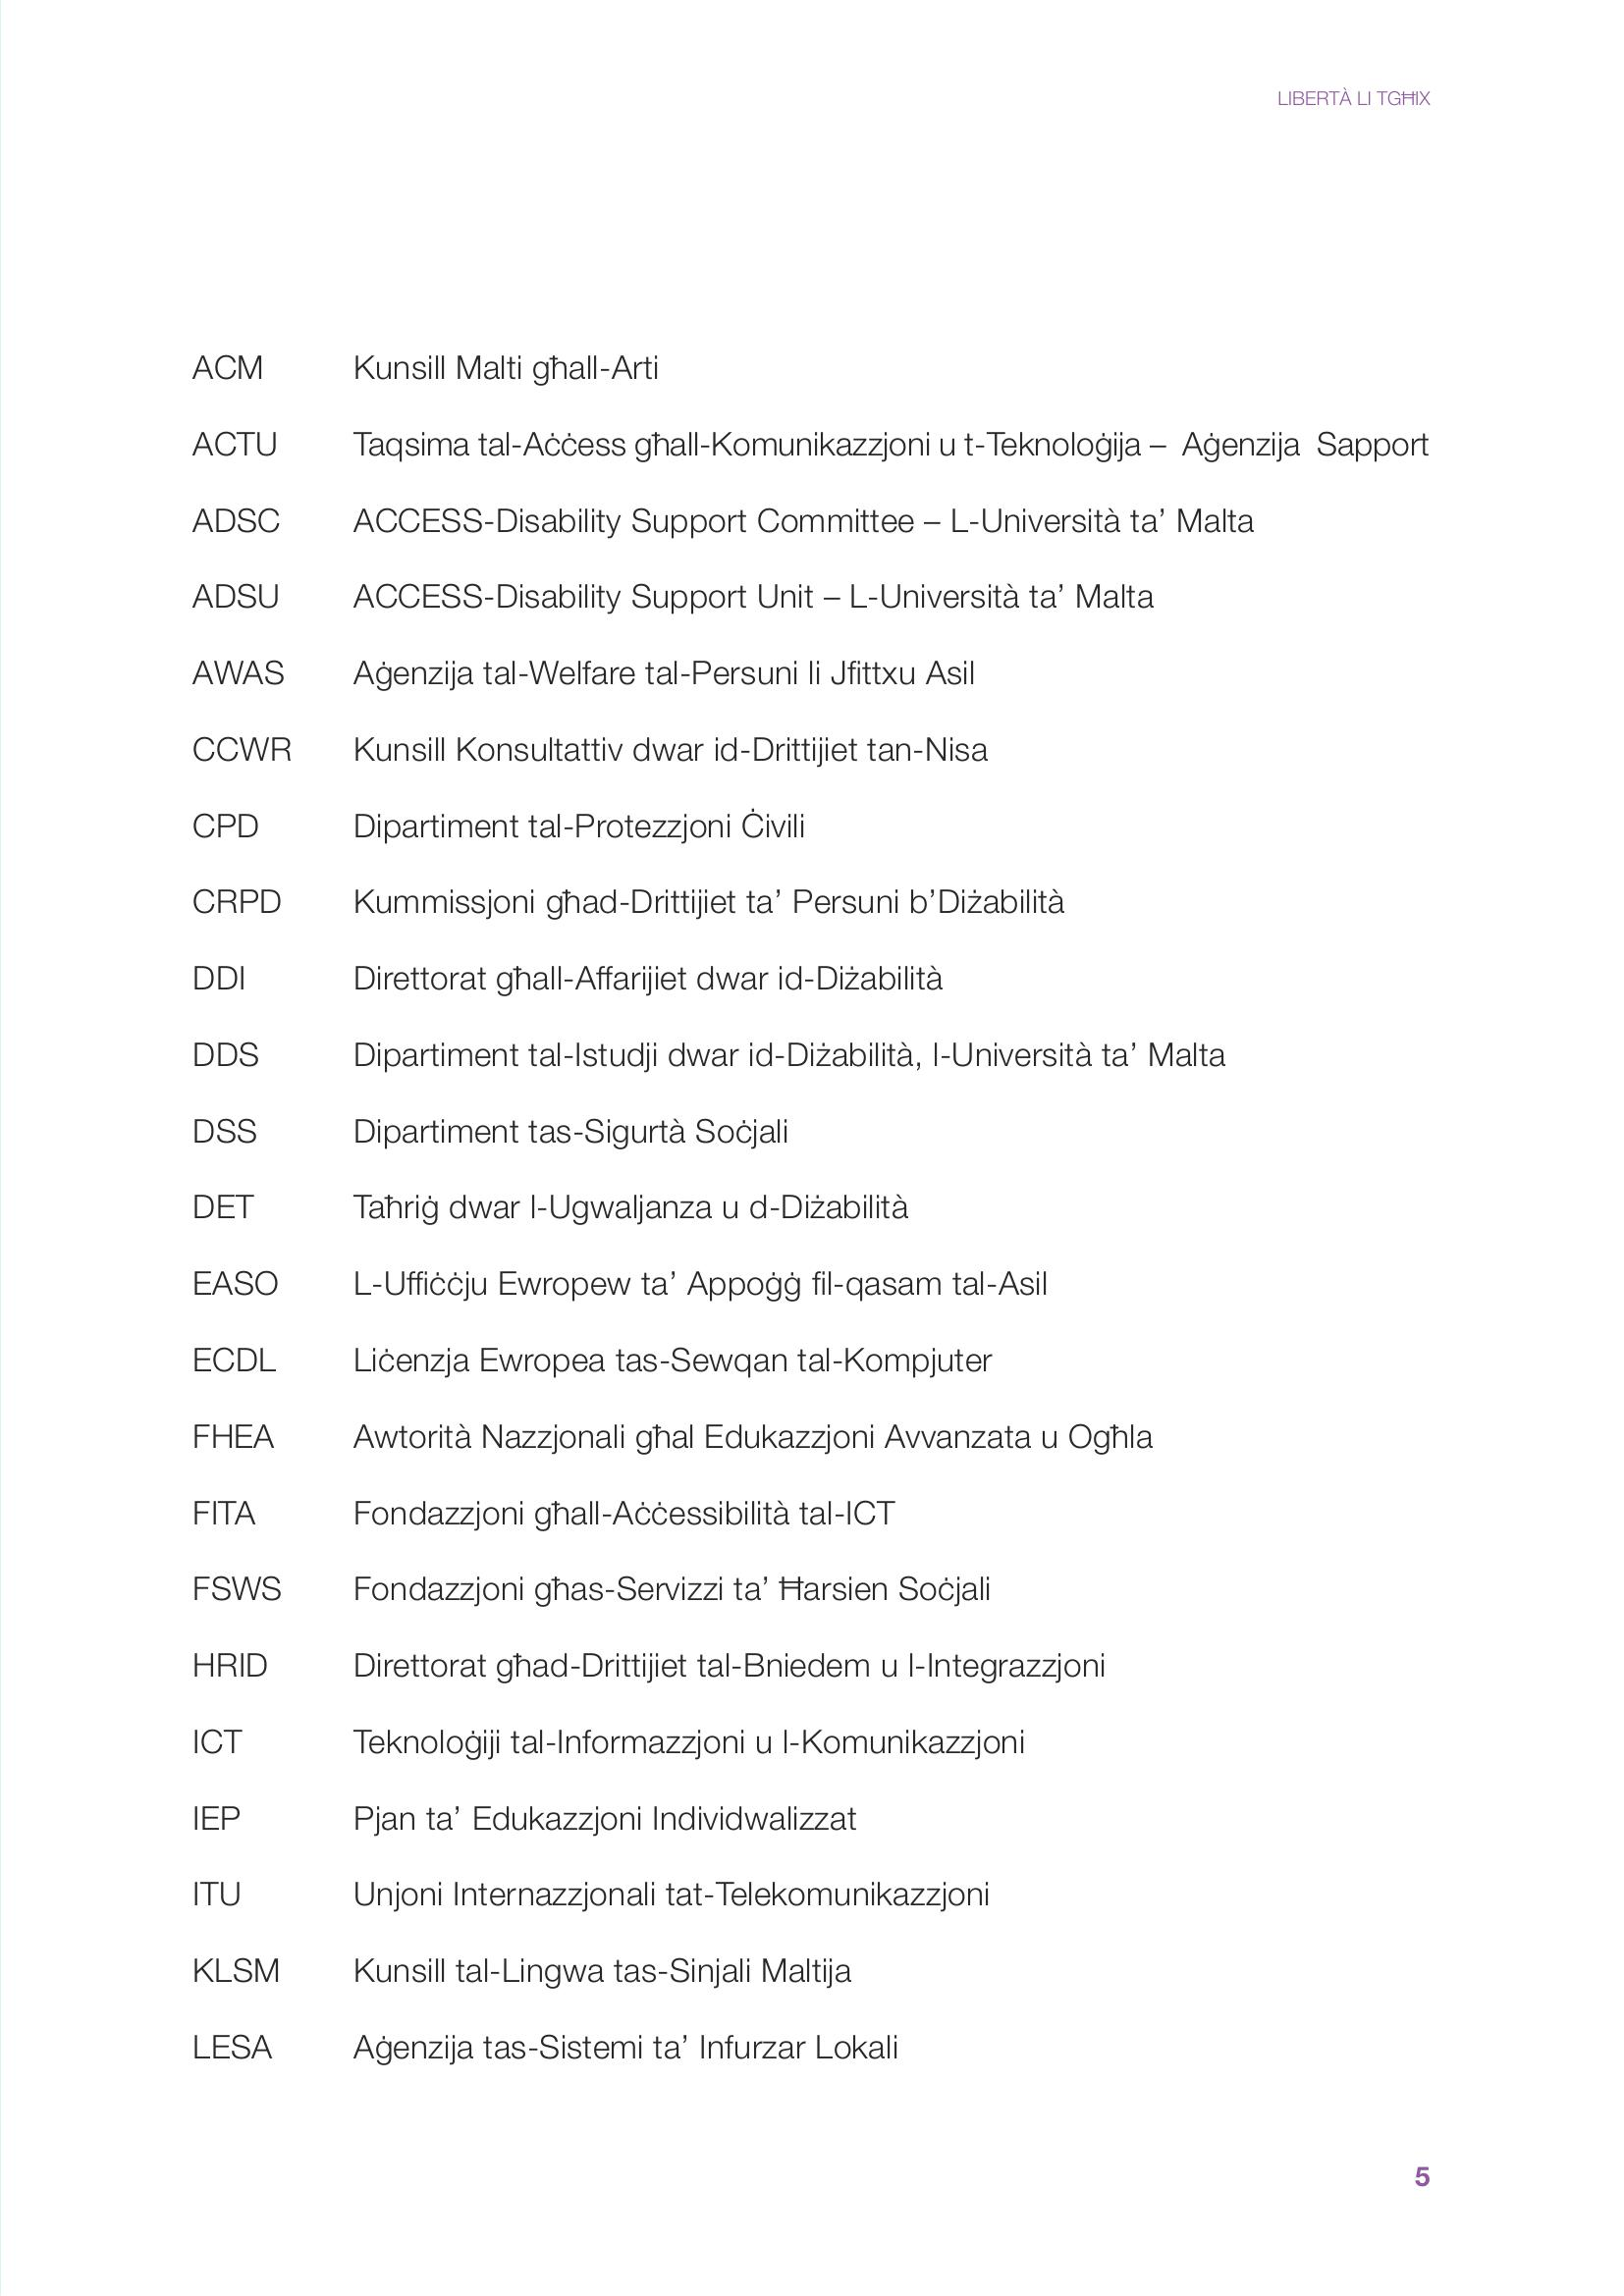text: (160, 299, 1459, 2101)
